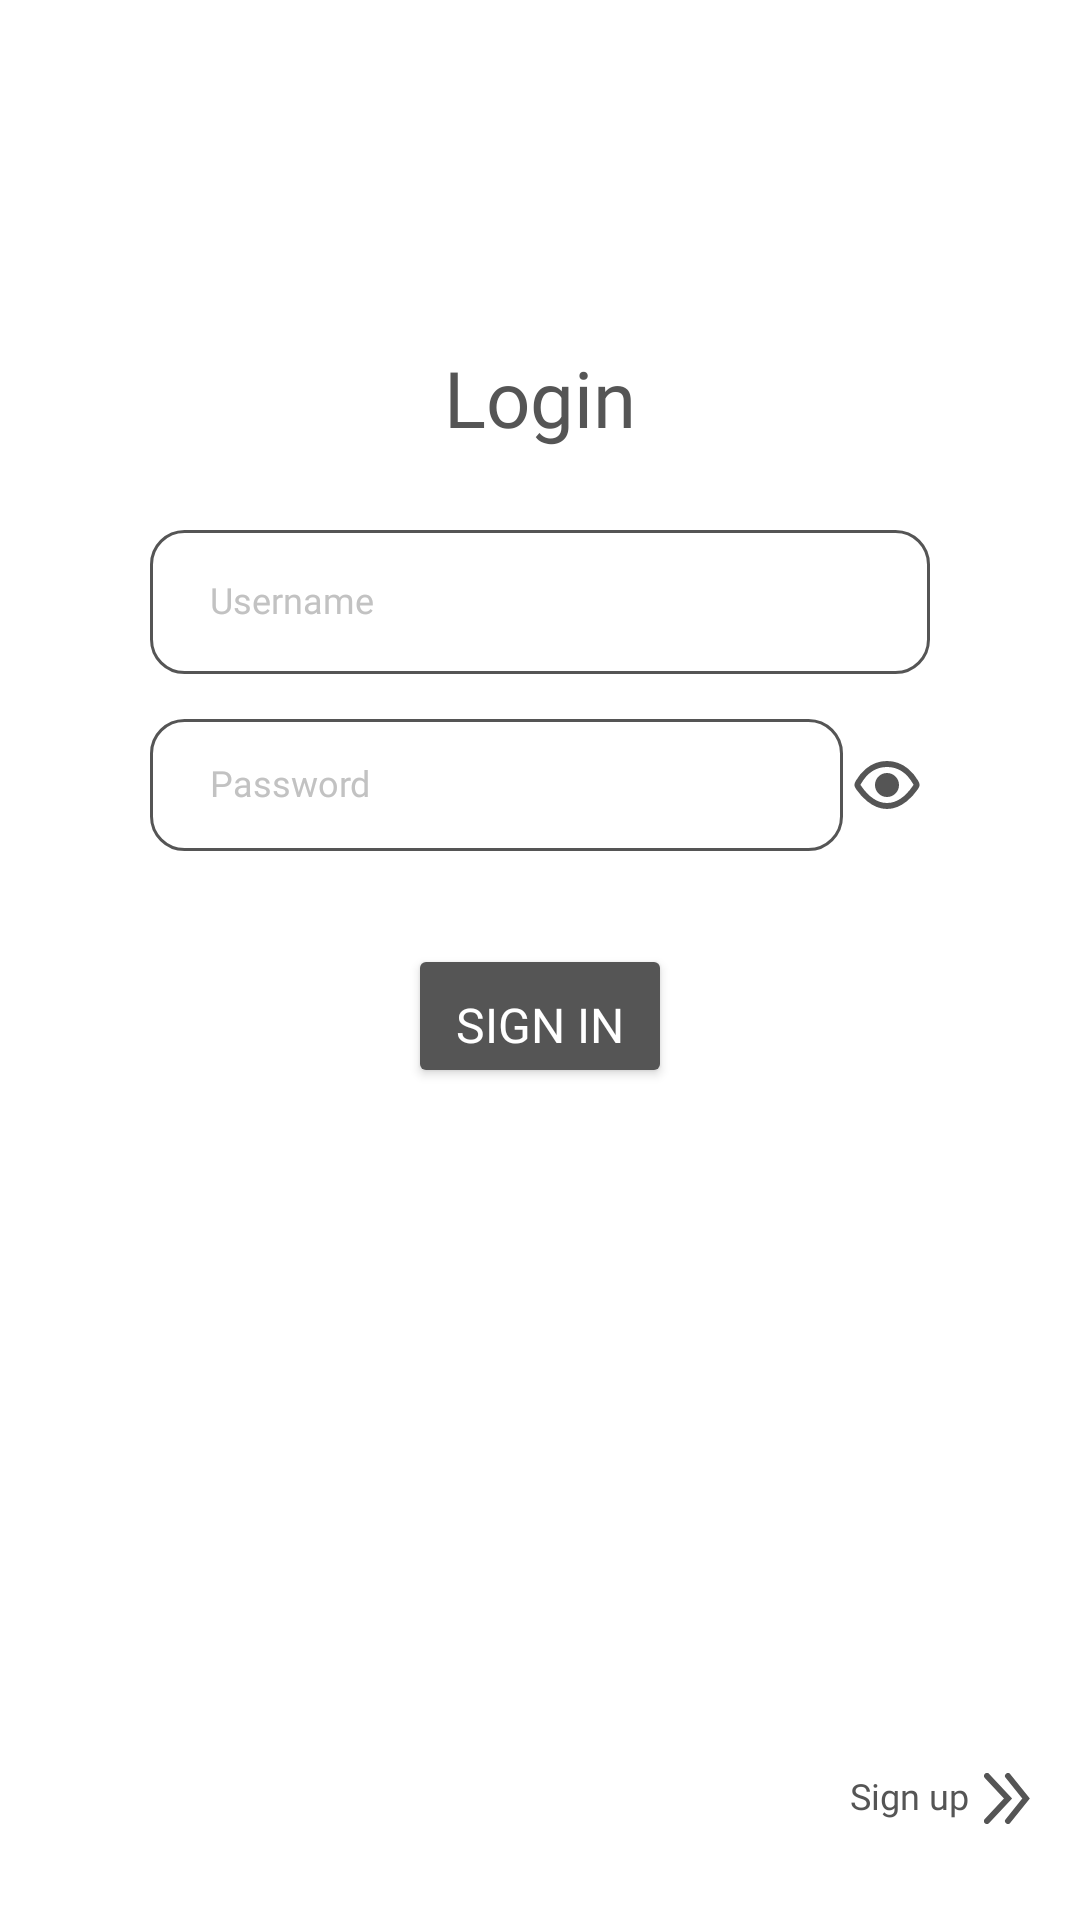

Named icons in this screenshot (1080 x 1920) and their centers, point (x, y):
Navigation arrow to other fragments: point (1007, 1798)
